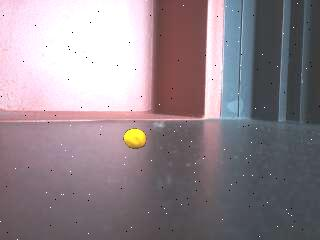Lemon: (125, 129, 146, 149)
